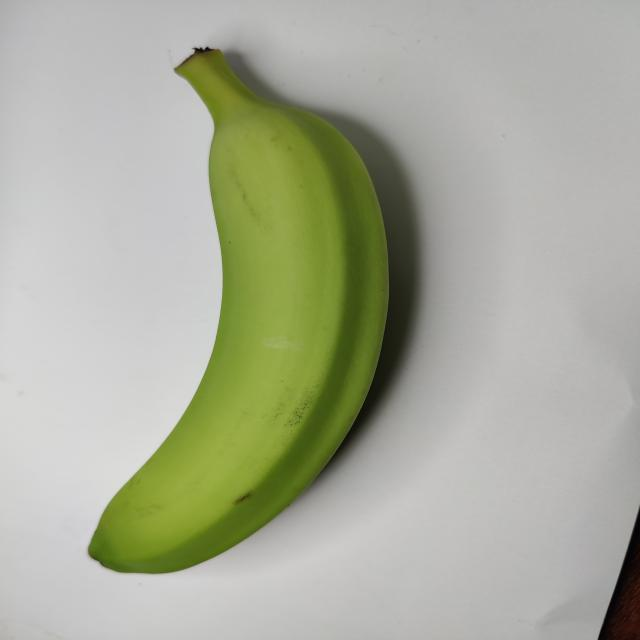raw: (47, 37, 487, 585)
